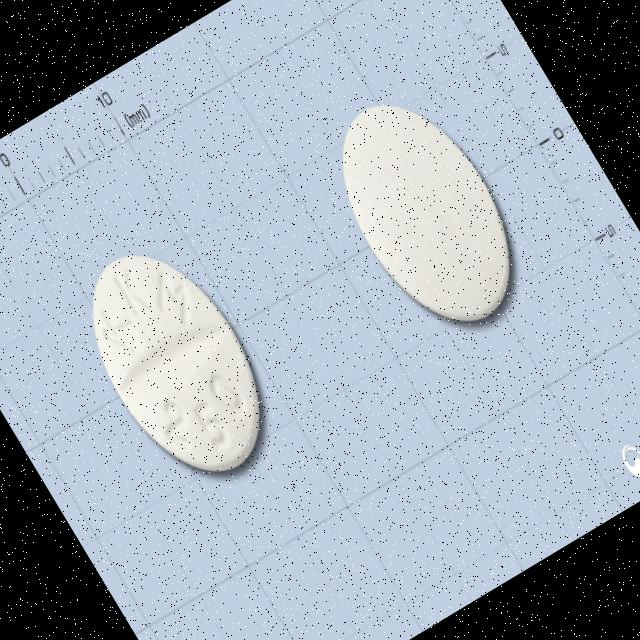Ciploxcin: (54, 218, 302, 507)
